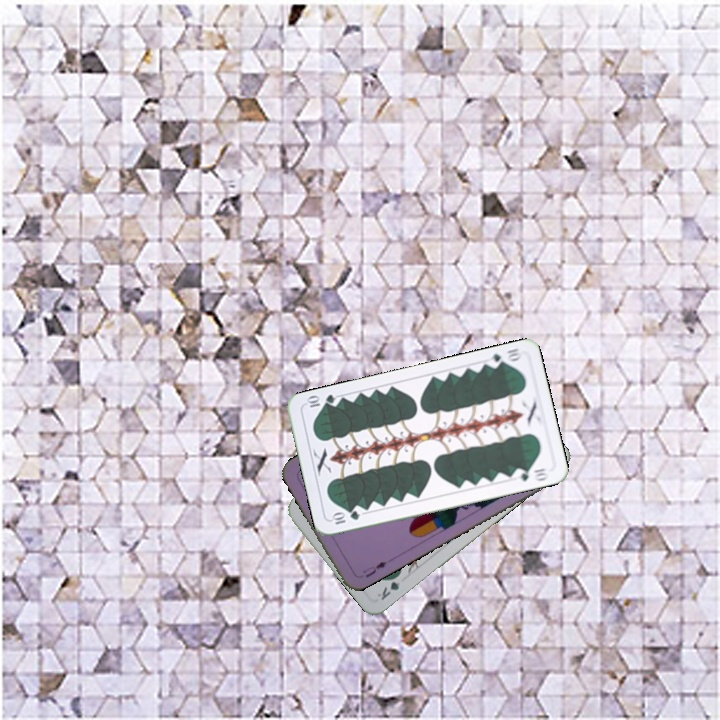EU: (359, 557, 389, 580)
G10: (485, 344, 523, 370), (328, 507, 362, 527)
GK: (373, 569, 404, 603)
